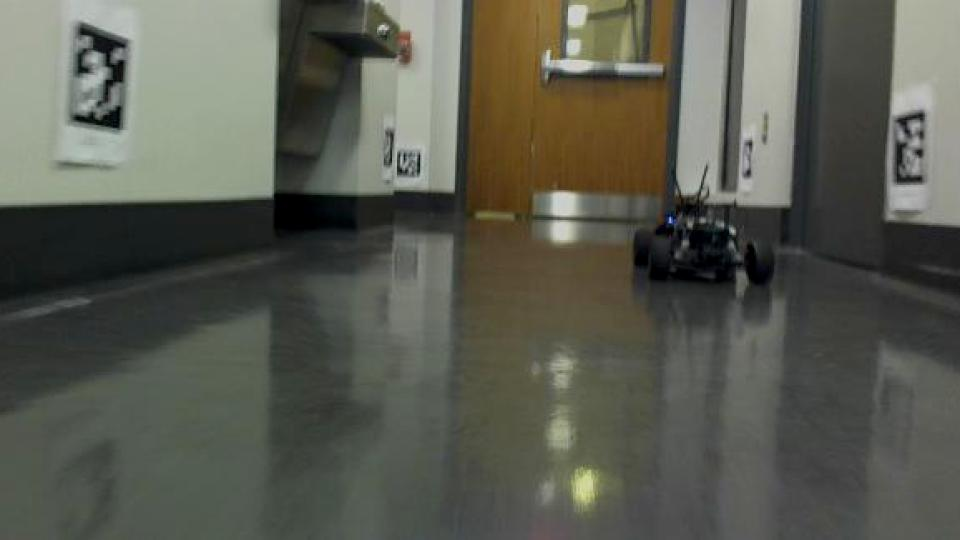car: (628, 160, 777, 290)
